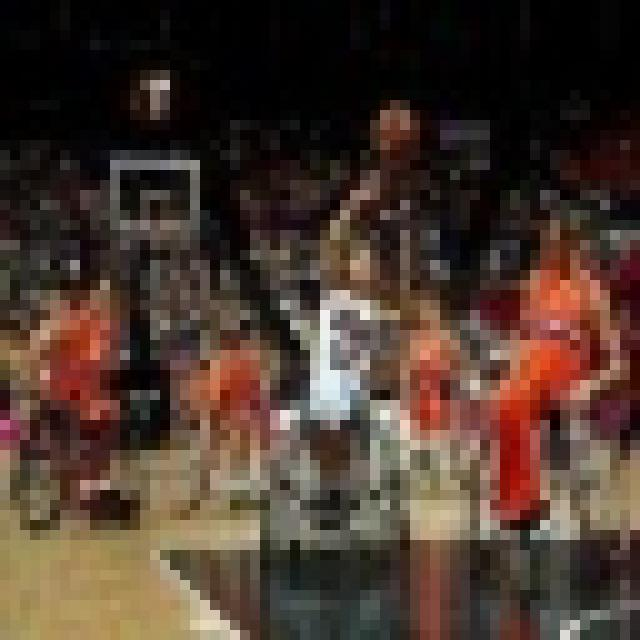wheelchairs: (248, 385, 420, 562), (456, 407, 601, 561), (13, 406, 145, 530), (162, 382, 278, 511)
